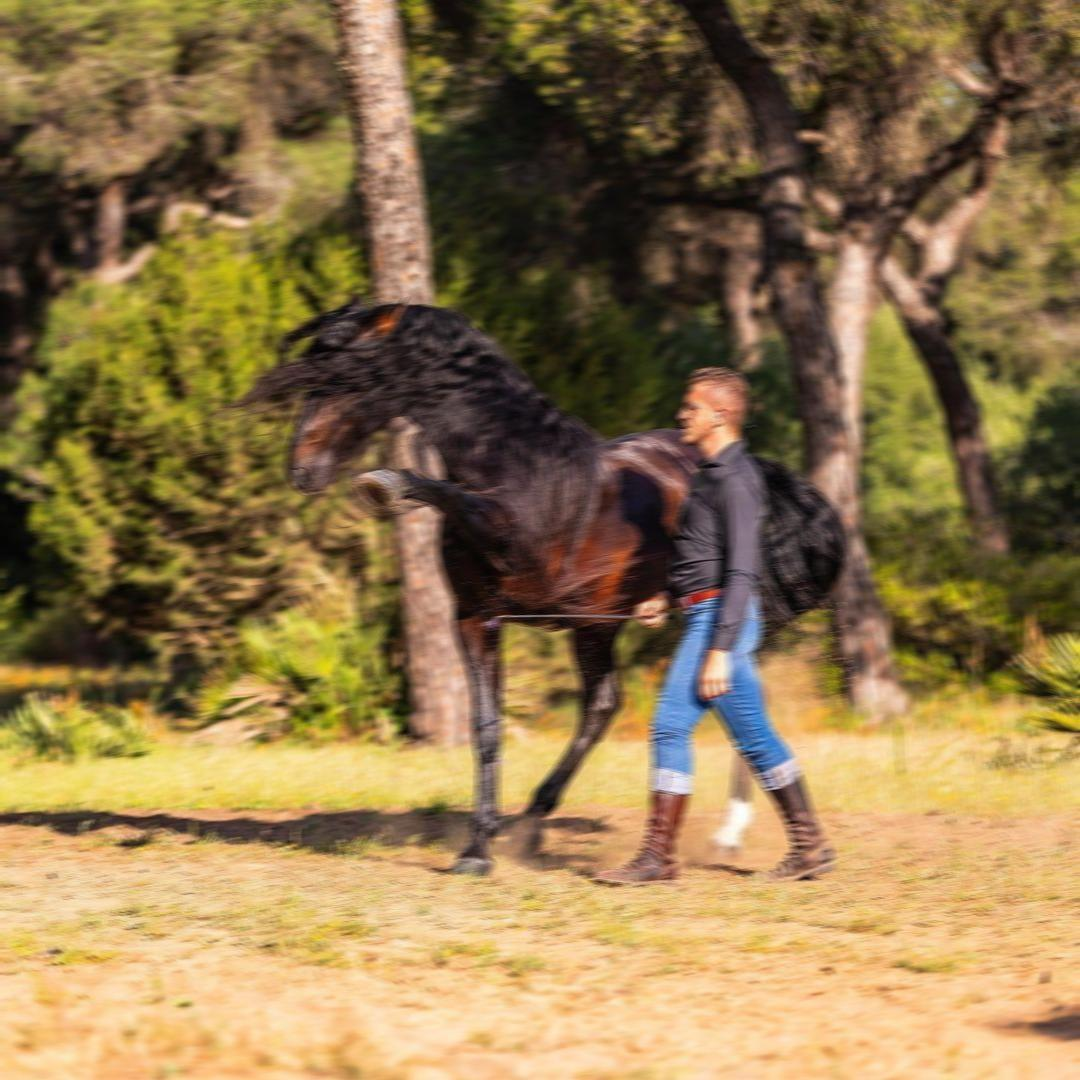horse: (208, 290, 852, 879)
